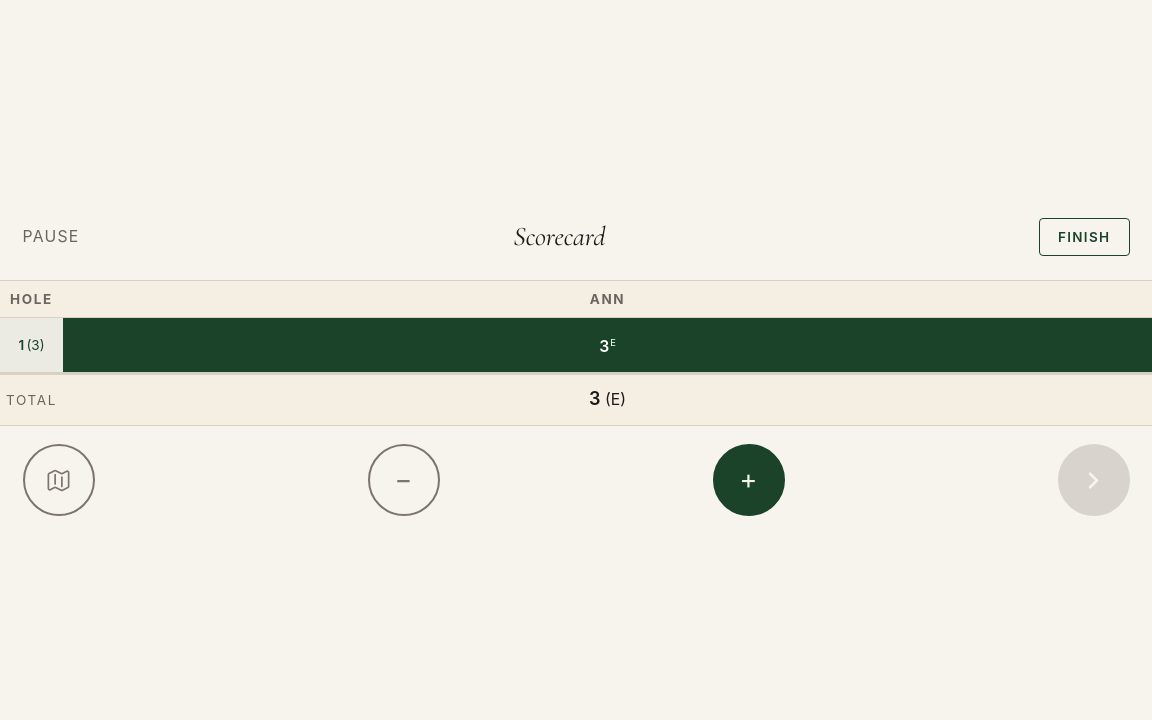
Scenario: Scorecard - a failed local save on finish (#99) › signed out: keeps the round on the scorecard with an error, and does not clear the active game
Click the button "Finish". click: (1084, 237)
box: [1039,218,1130,256]
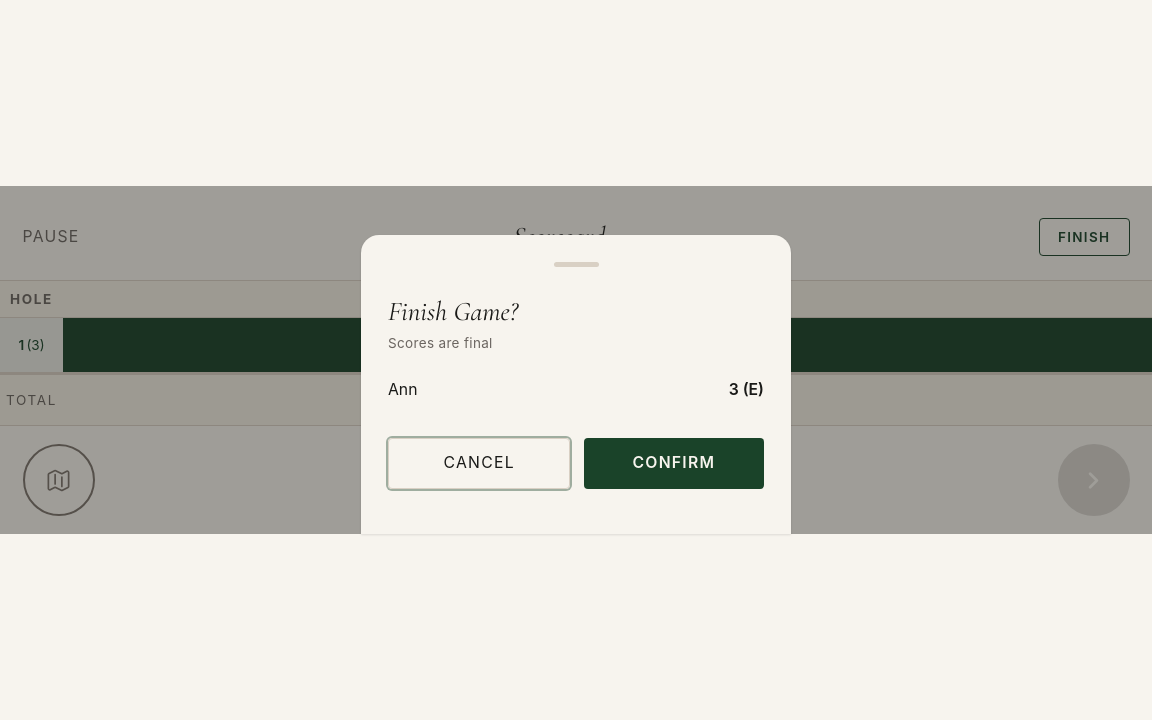
Click the button "Confirm". click: (674, 464)
box: [584,438,764,489]
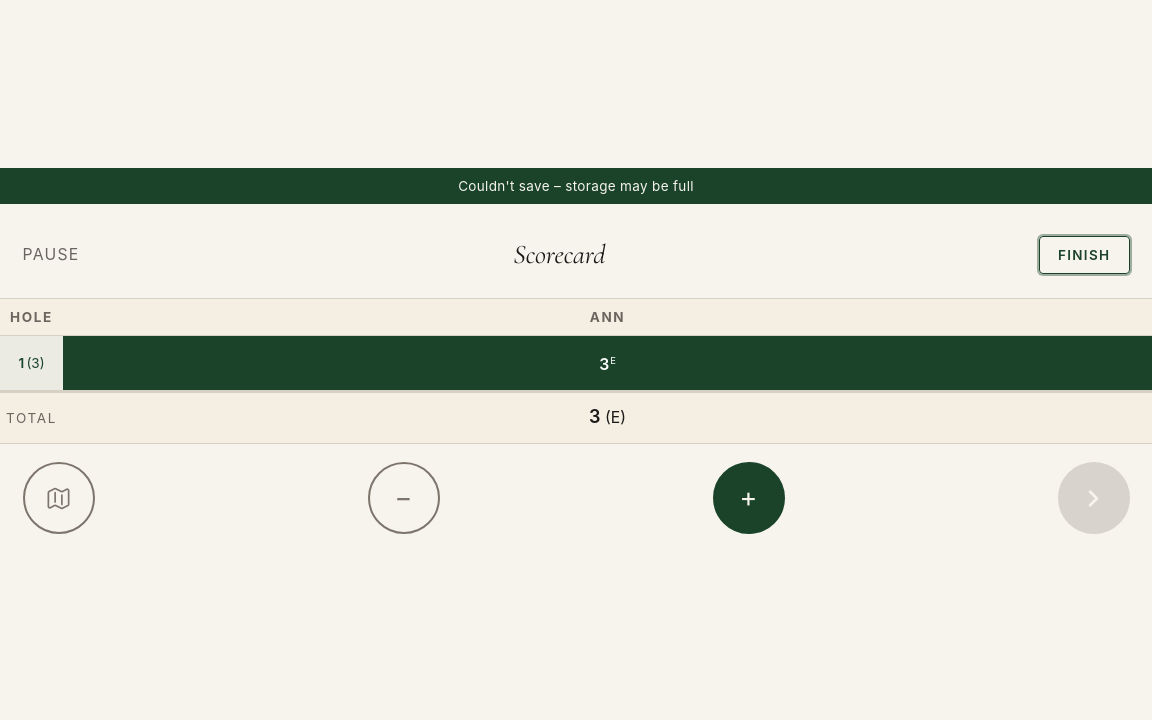
Now the message reads "Couldn't save – storage may be full", box [458,178,694,194]
Now the dialog is gone
